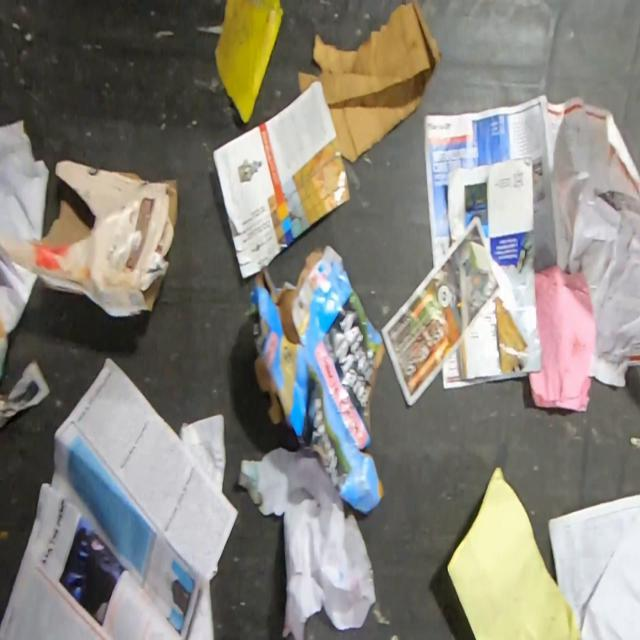cardboard: (249, 243, 388, 516), (0, 159, 179, 319), (212, 80, 351, 280), (495, 296, 528, 372)
